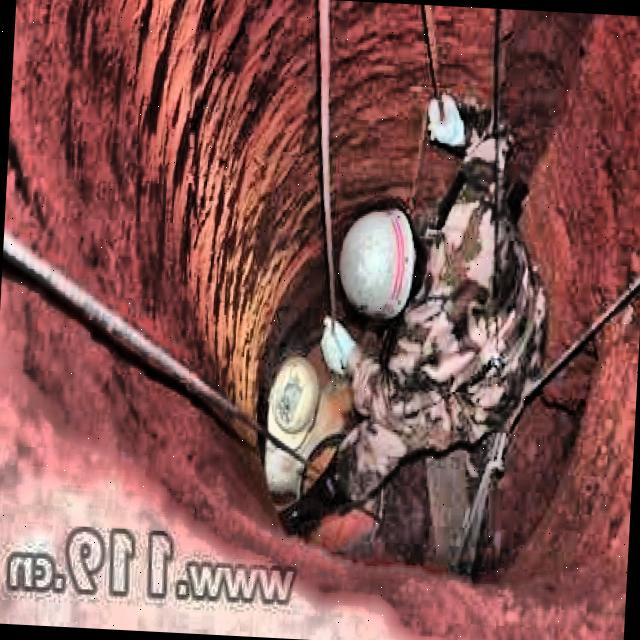helmet: (331, 200, 416, 324)
